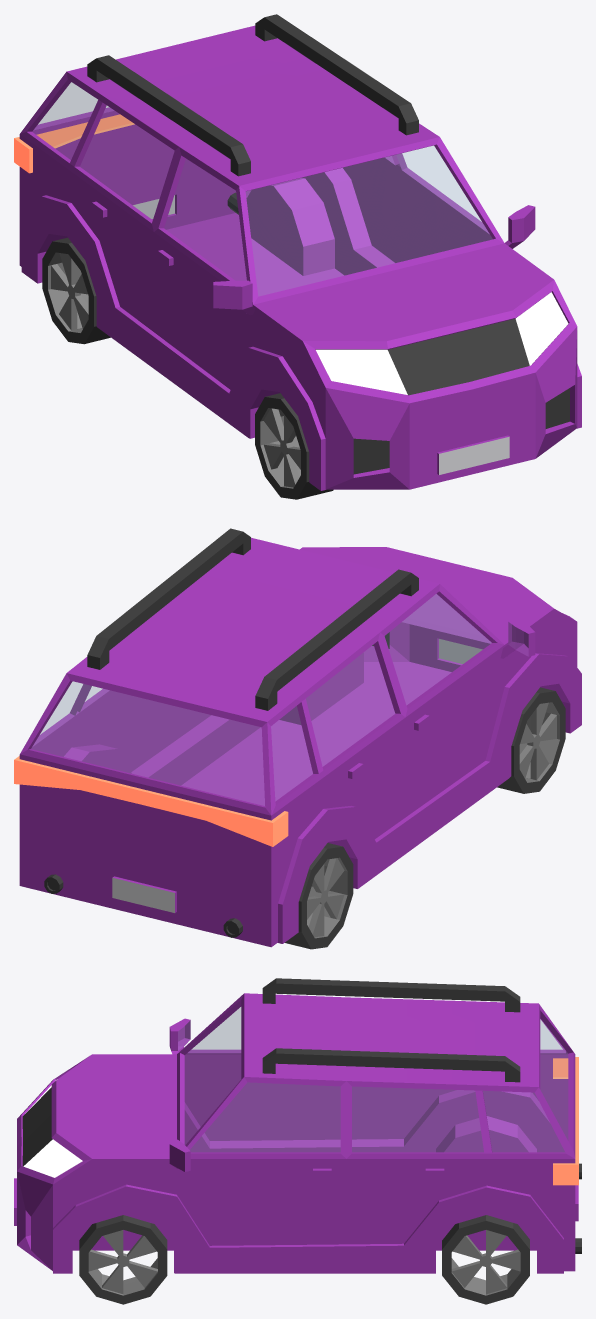
File: suv.glb
3 renders of one model, top to bottom at view 1: azimuth 30°, elevation 25°; view 2: azimuth 150°, elevation 25°; view 3: azimuth 270°, elevation 25°, orthographic. The views are drawn at different scales.
Parts seen in each view (by area): view 1: SUV, SUV wheel front right, SUV wheel rear right; view 2: SUV, SUV wheel rear right, SUV wheel front right; view 3: SUV, SUV wheel front left, SUV wheel rear left.
Part boxes in pixels (x1,y1,x2,y2): SUV: [14, 14, 581, 490]; SUV wheel front right: [255, 393, 333, 499]; SUV wheel rear right: [42, 237, 110, 344]; SUV: [14, 528, 581, 947]; SUV wheel rear right: [285, 843, 353, 949]; SUV wheel front right: [497, 687, 565, 793]; SUV: [14, 978, 581, 1273]; SUV wheel front left: [79, 1215, 167, 1304]; SUV wheel rear left: [442, 1215, 529, 1304].
Size of the model in its own units: 2.81 by 2.3 by 5.04.
